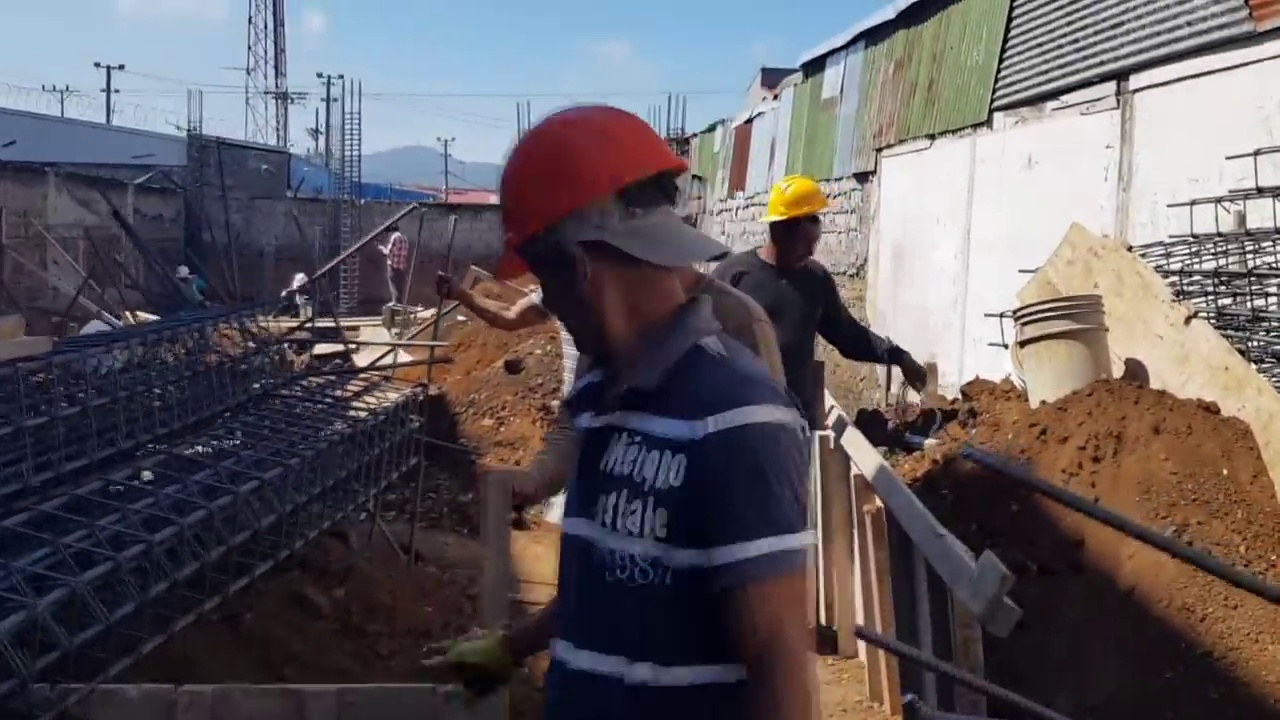helmet: (491, 99, 698, 259), (761, 174, 825, 230)
helmet-off: (380, 219, 402, 237)
helmet-on: (491, 97, 701, 383), (766, 176, 829, 268)
person: (491, 99, 815, 704), (709, 175, 927, 552), (374, 221, 410, 311)
